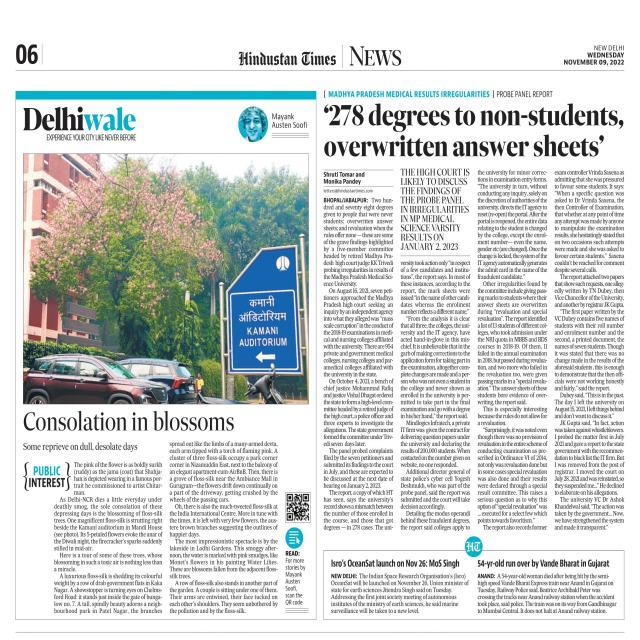Article: (14, 100, 314, 618), (318, 87, 630, 535), (326, 551, 473, 620), (474, 551, 622, 619)
Body: (476, 167, 550, 533), (552, 168, 626, 533), (322, 196, 393, 534), (399, 258, 472, 533), (168, 438, 279, 616), (50, 460, 164, 616), (476, 570, 618, 616), (330, 570, 470, 616)
Date: (563, 50, 624, 67)
Heading: (320, 102, 626, 158), (23, 408, 240, 434), (329, 557, 462, 570), (476, 558, 612, 568)
Highlights: (400, 164, 470, 251), (285, 548, 307, 610)
Image: (23, 154, 310, 403), (236, 105, 267, 142), (285, 492, 310, 520)
Name: (238, 48, 338, 67), (348, 45, 404, 68)
